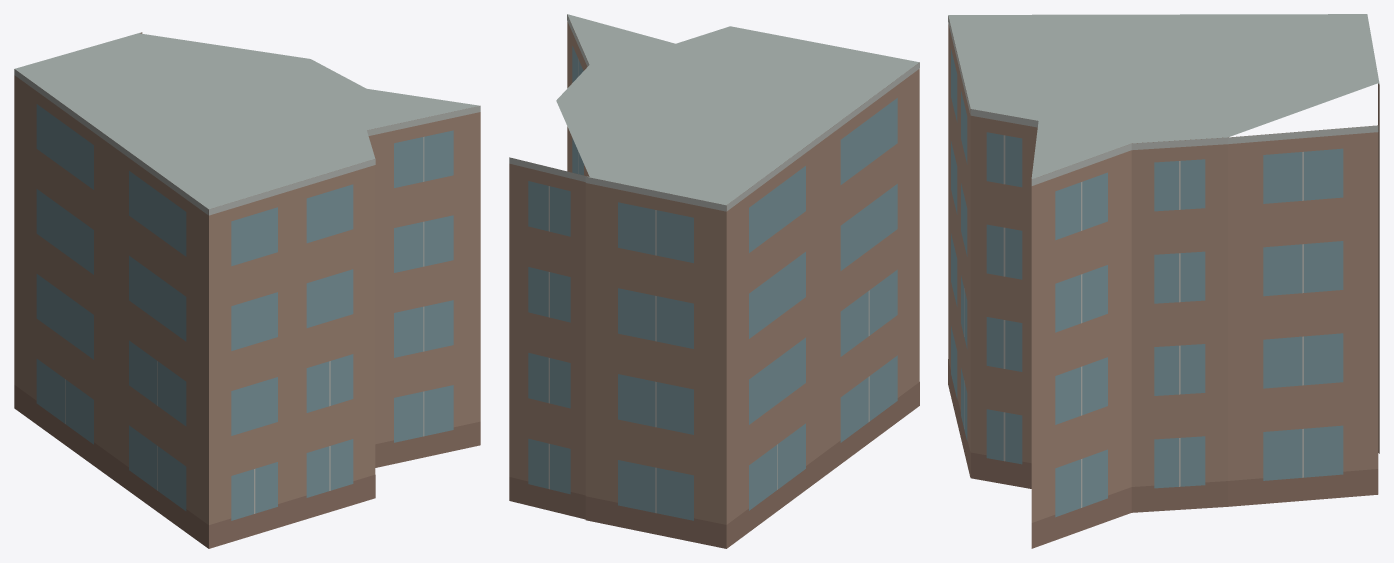
File: survey-upis-32946563.glb
The picture shows the model from 3 angles, left to right: view 1: azimuth 30°, elevation 25°; view 2: azimuth 150°, elevation 25°; view 3: azimuth 270°, elevation 25°; orthographic projection. The views are drawn at different scales.
Visible parts, largest first — view 1: survey-upis-32946563.tmp; view 2: survey-upis-32946563.tmp; view 3: survey-upis-32946563.tmp.
Part boxes in pixels (x1,y1,x2,y2): survey-upis-32946563.tmp: (14,32,480,548); survey-upis-32946563.tmp: (509,14,919,548); survey-upis-32946563.tmp: (948,14,1379,548).
Bounding box in the file's own units: 12.79 × 13.3 × 14.1.
